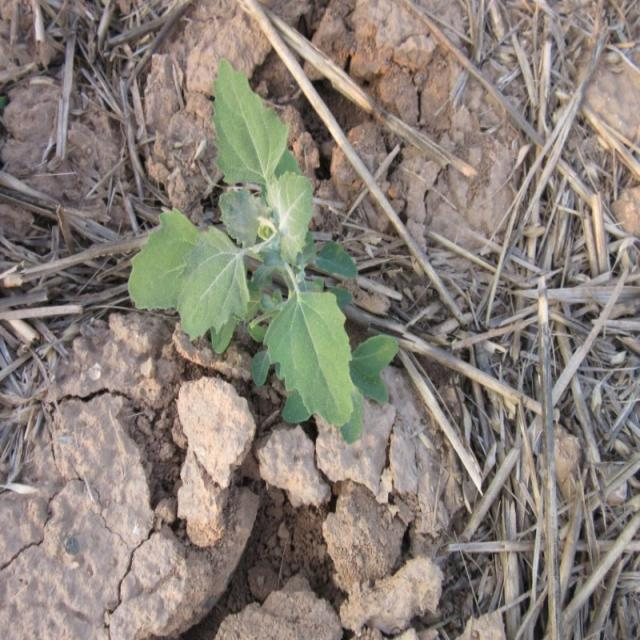ca: (125, 63, 399, 432)
